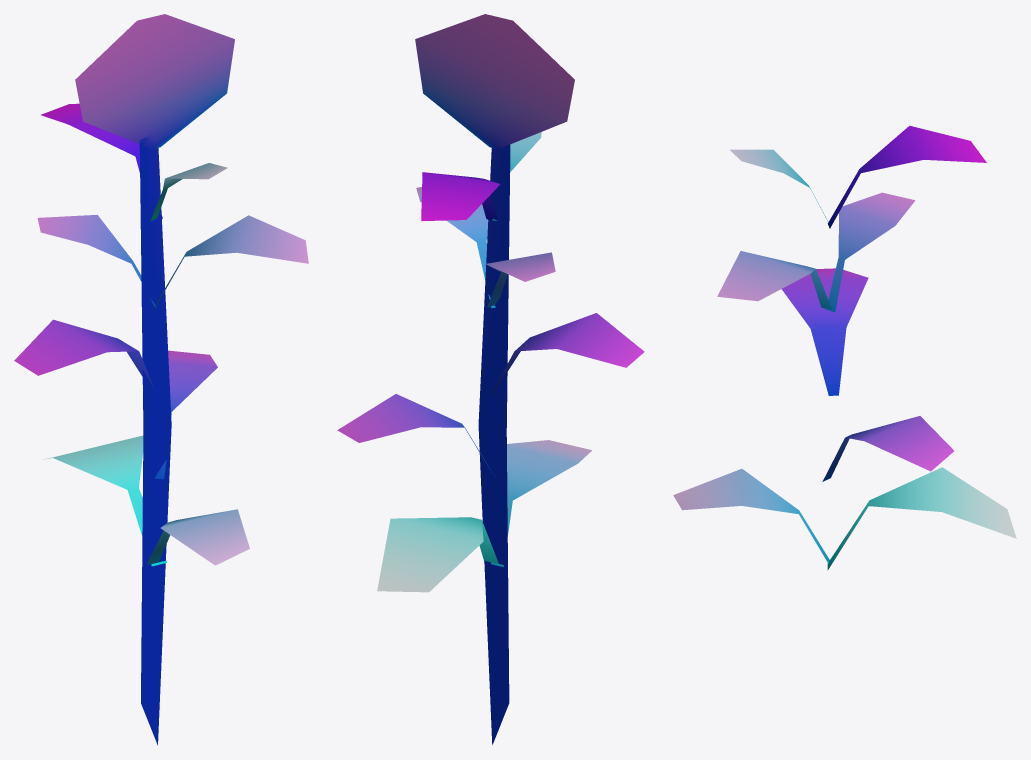
The model's file is Curbside_Weeds_ujzjfexja_Mid_ujzjfexja_VarF_LOD1.fbx.
3 renders of one model, left to right at view 1: azimuth 30°, elevation 25°; view 2: azimuth 150°, elevation 25°; view 3: azimuth 270°, elevation 25°, orthographic.
Parts seen in each view (by area): view 1: _9ei6_VarF_LOD2; view 2: _9ei6_VarF_LOD2; view 3: _9ei6_VarF_LOD2.
Part boxes in pixels (x1,y1,x2,y2): _9ei6_VarF_LOD2: (14,14,308,745); _9ei6_VarF_LOD2: (337,14,644,744); _9ei6_VarF_LOD2: (673,125,1016,570).
Size of the model in its own units: 2.48 by 6.9 by 2.98.
